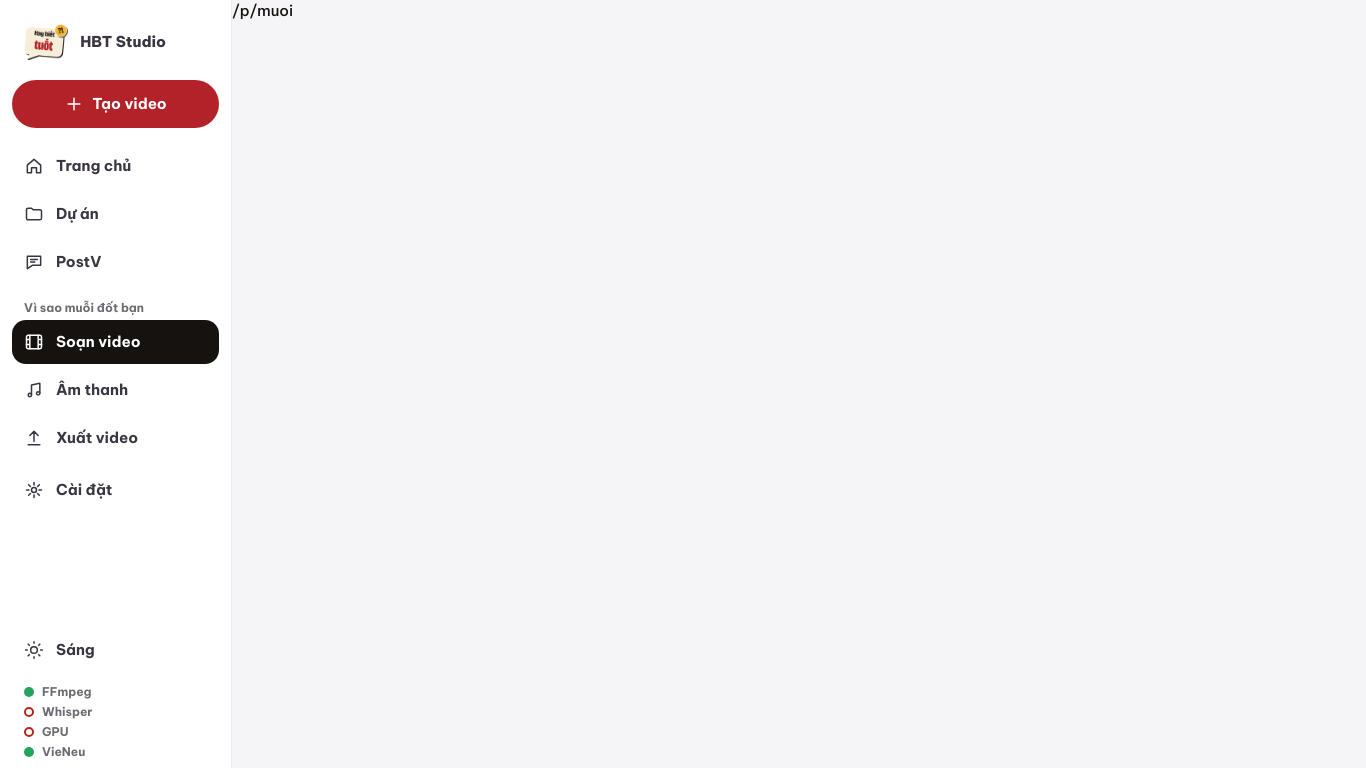
Scenario: AppShell, wide (>= 1280 px) › opens the new-video dialog from the red button, on any screen
What coordinates should you click on to do the following:
click the button "Tạo video"
I would click on:
 (116, 104)
Its box is [12, 80, 219, 128].
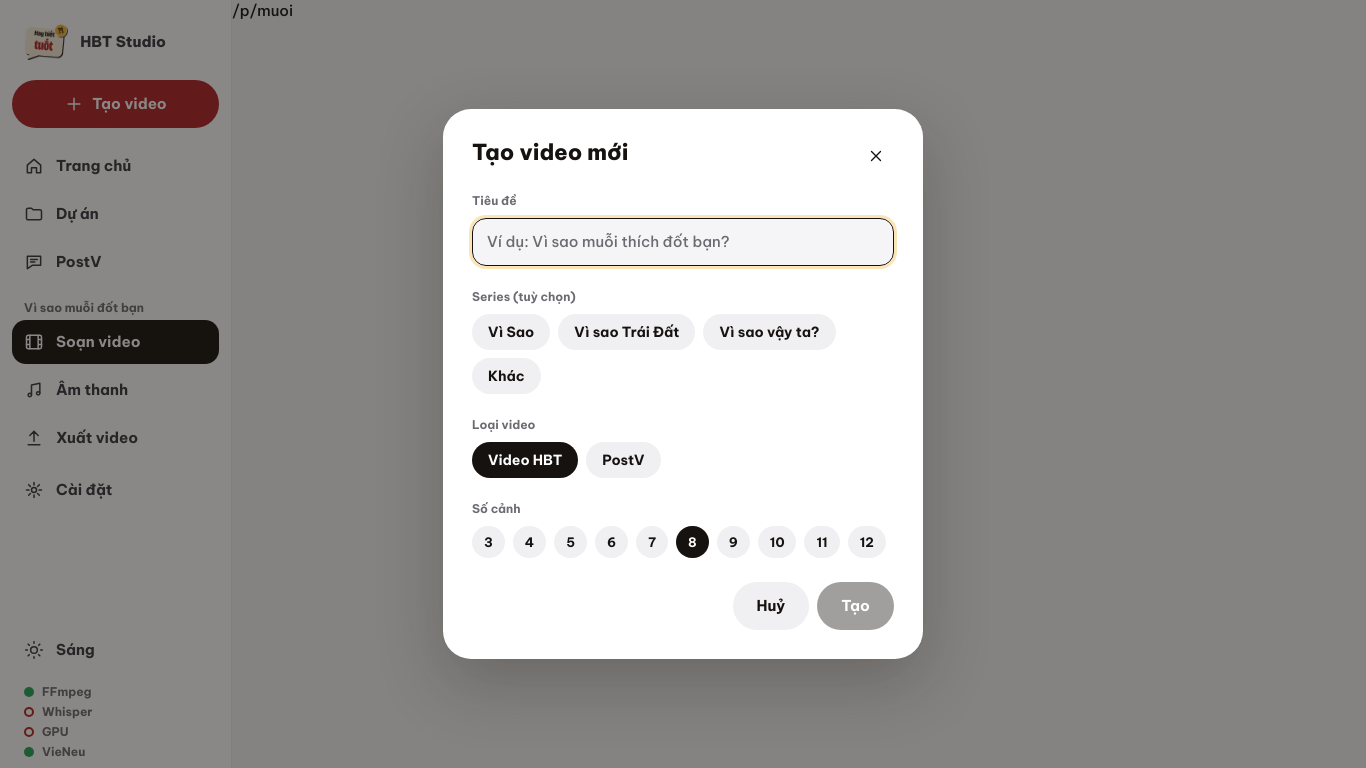
Expected: the text with test id "where" reads "/p/muoi", [232, 1, 293, 20]
Expected: the dialog "Tạo video mới" is shown, [443, 109, 923, 659]
